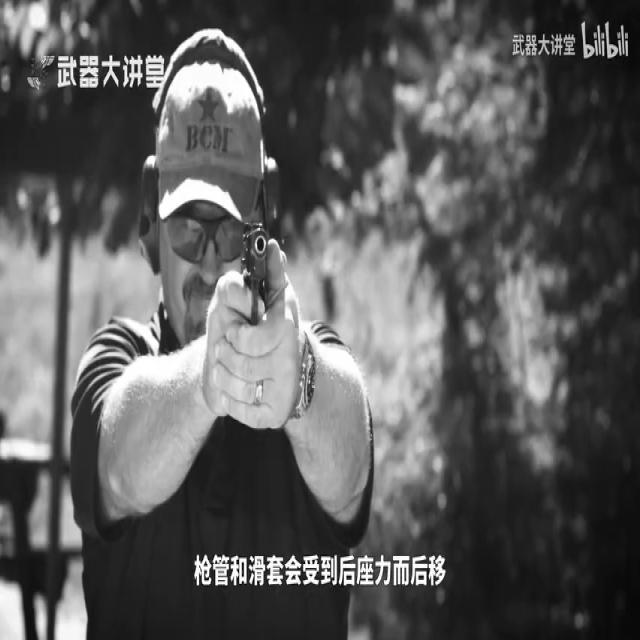Hand-Gun: (242, 223, 272, 325)
